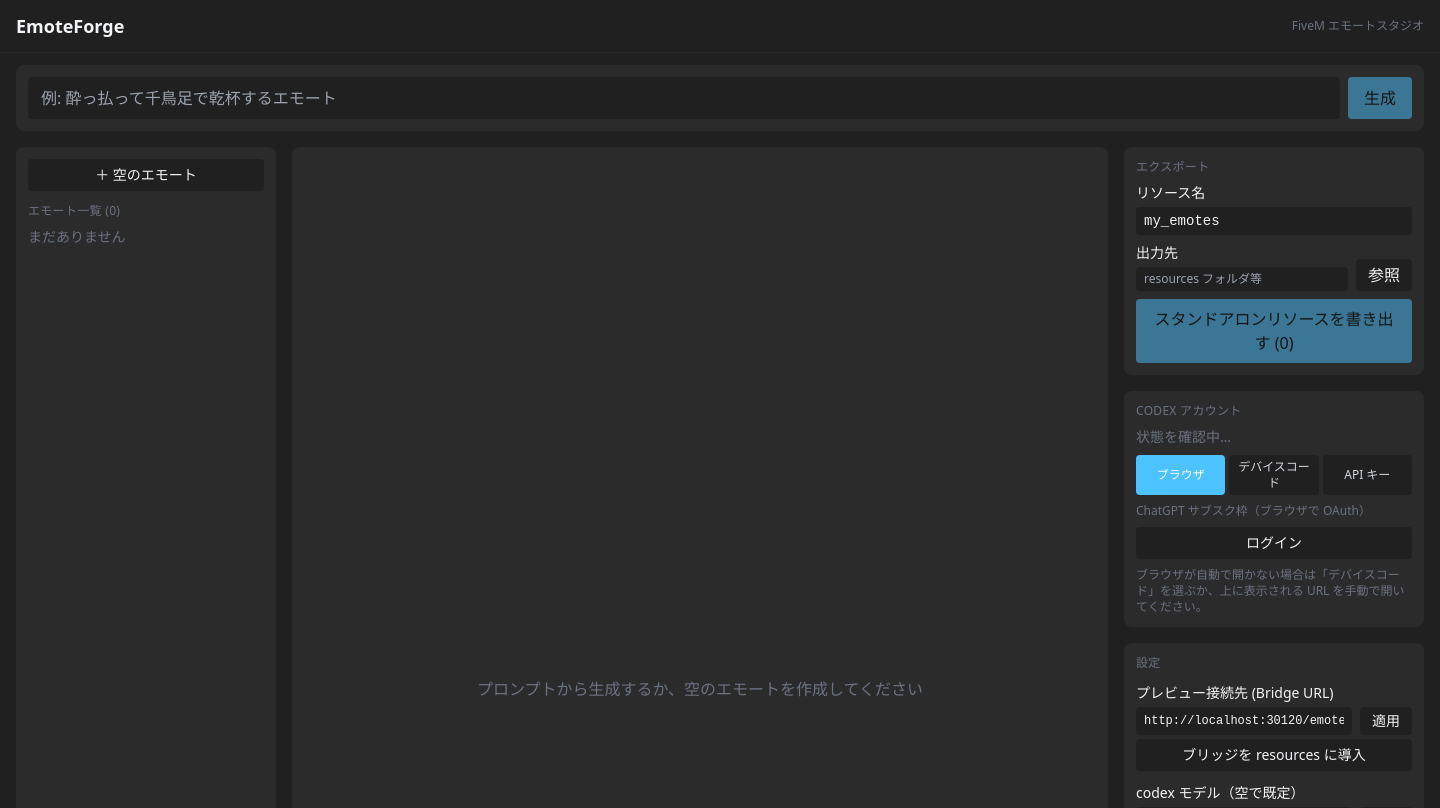
Test: App › generates an emote and shows it in the editor
Type "乾杯する" into the field named "prompt" at (684, 98), box 28,77 -> 1340,119
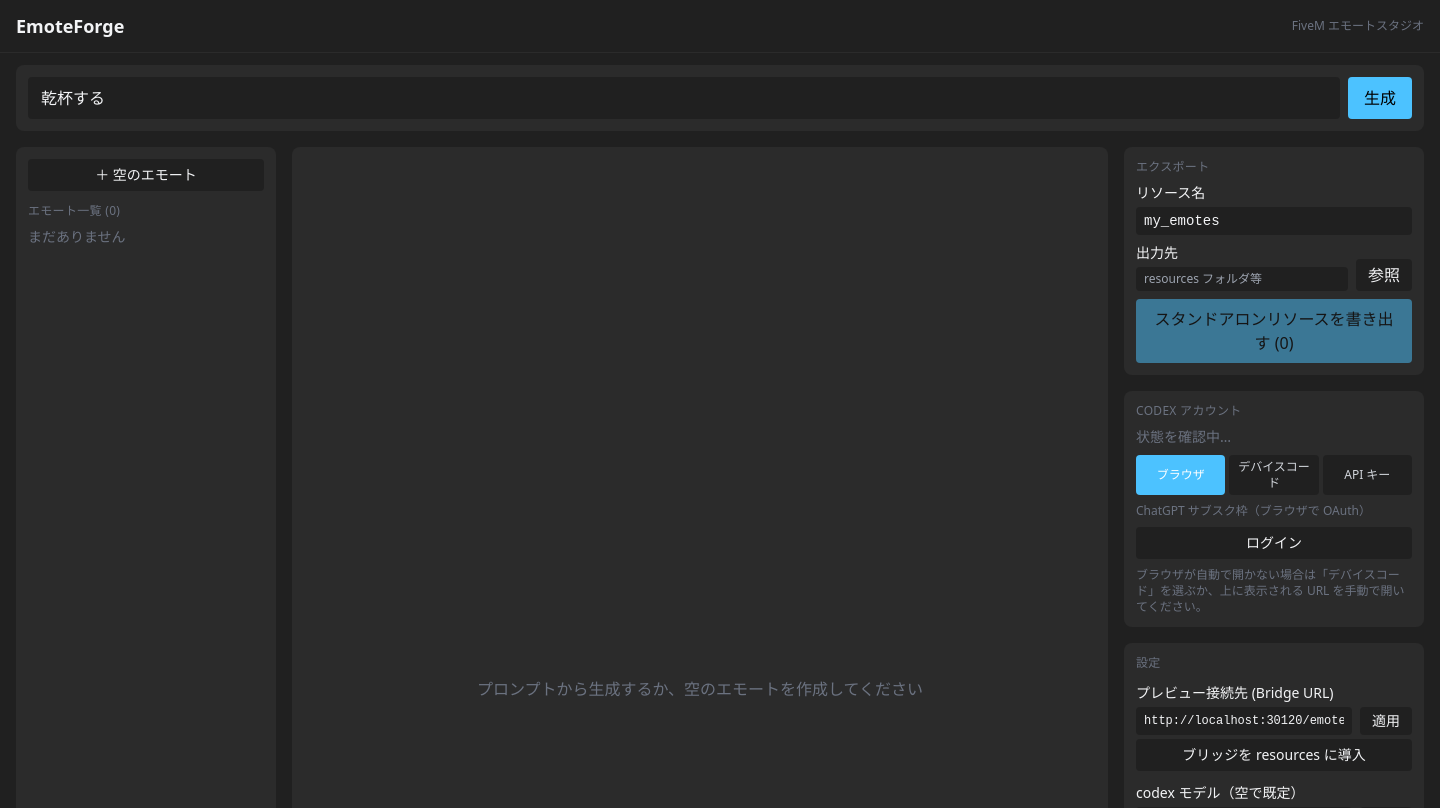
Click the button "生成" at (1380, 98), box 1348,77 -> 1412,119
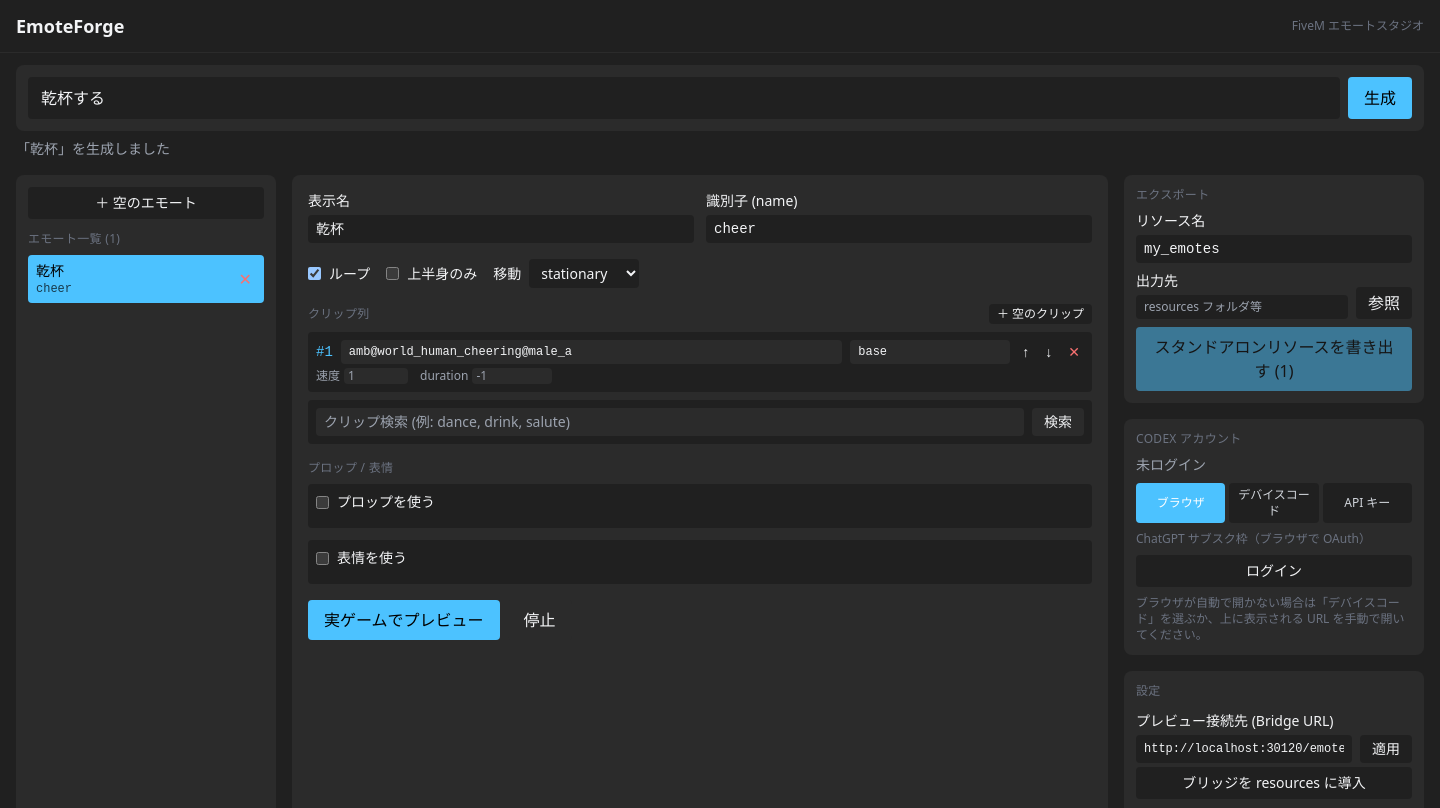
Result: the field showing "乾杯" is shown at 308,215 -> 694,243
Result: the element with test id "library-item" is shown at 28,255 -> 264,303
